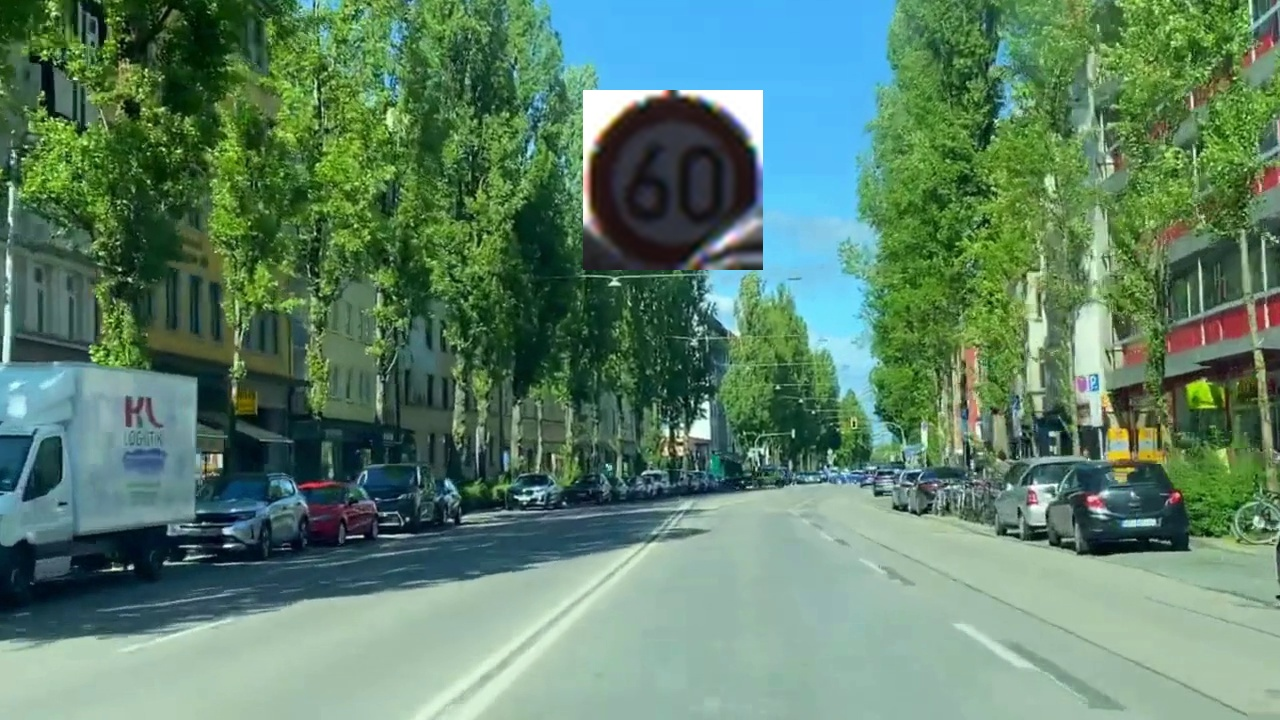Speed 60: (583, 90, 763, 270)
